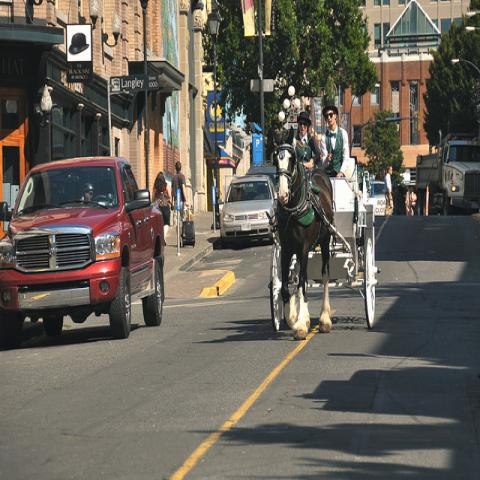car: (217, 175, 278, 249), (245, 166, 277, 194)
truck: (0, 156, 166, 344), (415, 129, 479, 216)
